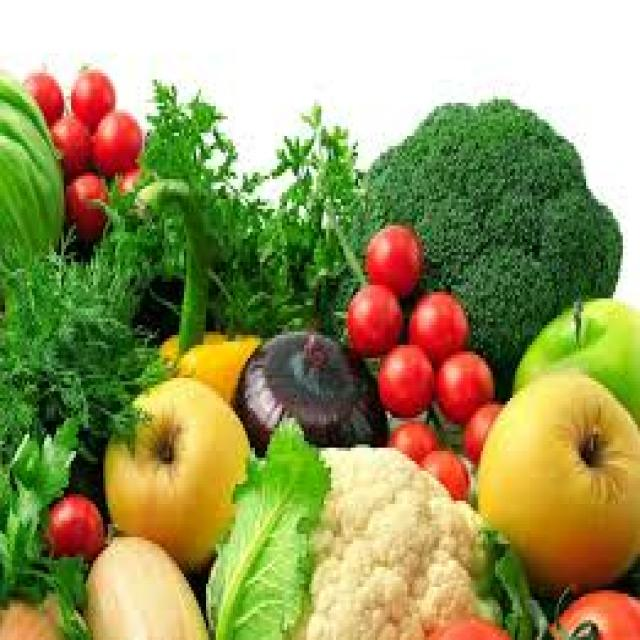organic waste: (328, 96, 623, 391), (201, 411, 540, 637), (137, 80, 363, 322), (0, 182, 174, 444), (471, 368, 637, 597), (101, 371, 250, 574), (130, 176, 257, 401), (230, 322, 388, 448), (0, 414, 88, 636), (510, 289, 638, 421), (76, 514, 213, 637), (0, 66, 59, 298), (474, 527, 550, 637), (399, 285, 464, 362), (542, 584, 637, 636), (44, 488, 103, 567), (363, 216, 419, 295), (375, 342, 434, 414), (0, 580, 74, 637), (434, 348, 490, 421), (346, 282, 402, 351), (89, 106, 138, 173), (64, 172, 113, 239), (422, 607, 520, 637), (64, 63, 113, 119), (419, 448, 471, 497), (56, 113, 94, 172), (387, 421, 439, 461), (463, 402, 502, 454), (24, 73, 59, 119), (106, 162, 147, 192), (132, 120, 150, 162)
